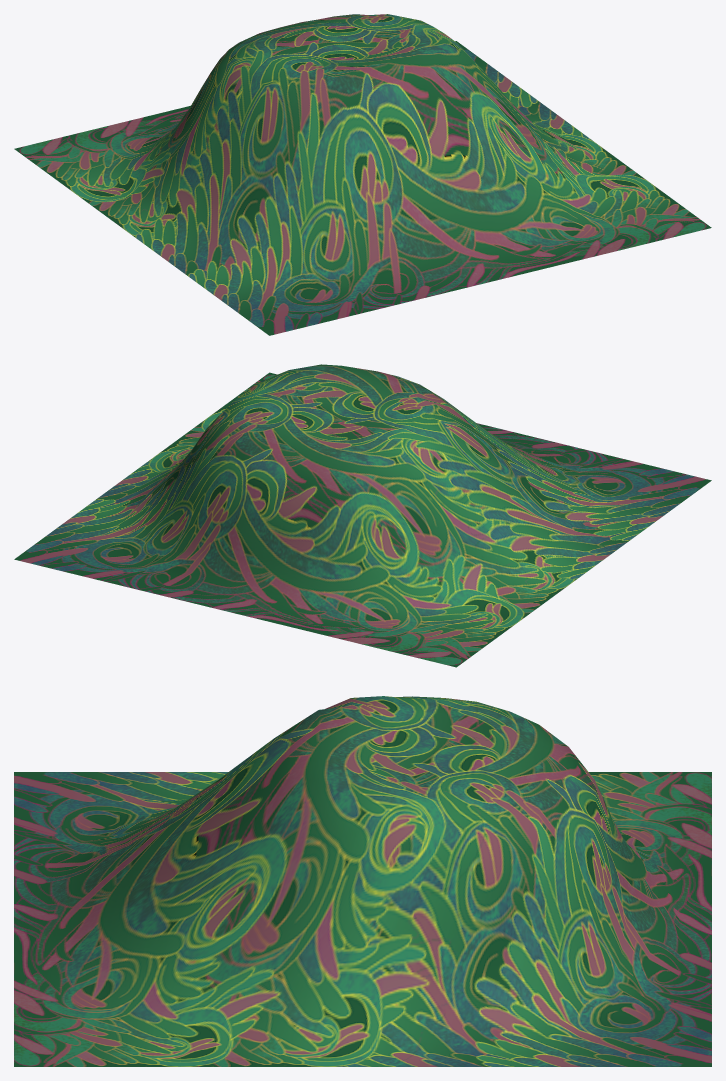
Rendered from Mountain.fbx.
3 renders of one model, top to bottom at view 1: azimuth 30°, elevation 25°; view 2: azimuth 150°, elevation 25°; view 3: azimuth 270°, elevation 25°, orthographic. The views are drawn at different scales.
Visible parts, largest first — view 1: Plane.011; view 2: Plane.011; view 3: Plane.011.
Boxes of the visible parts, <box> form: Plane.011: <box>14,14,711,335</box>; Plane.011: <box>14,364,711,667</box>; Plane.011: <box>14,696,711,1066</box>.
Size of the model in its own units: 2162 by 628 by 2162.
